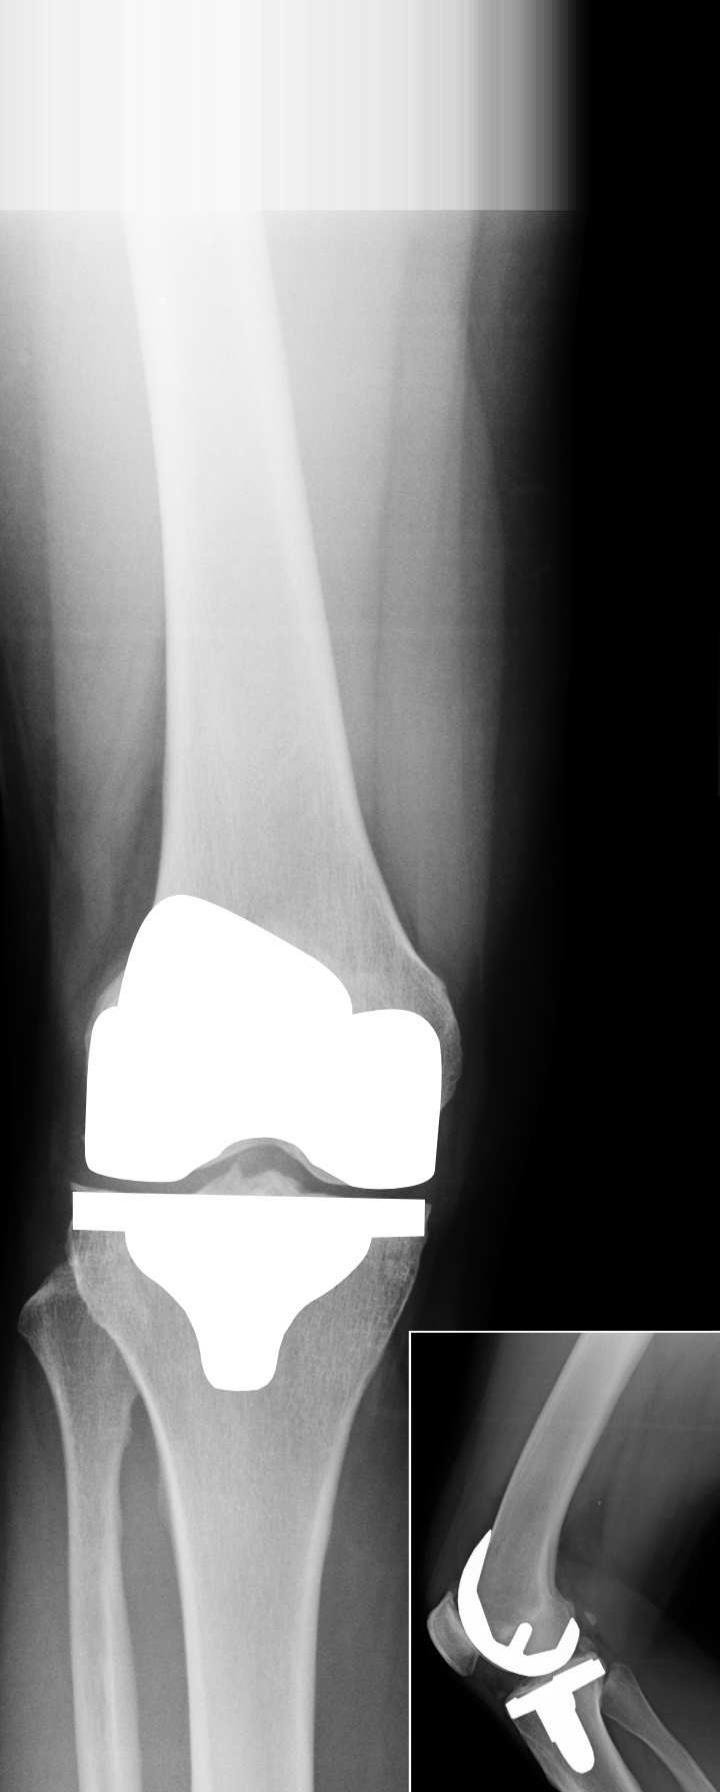Knee-Triathlon-Stryker: (70, 863, 446, 1394), (459, 1525, 609, 1775)
